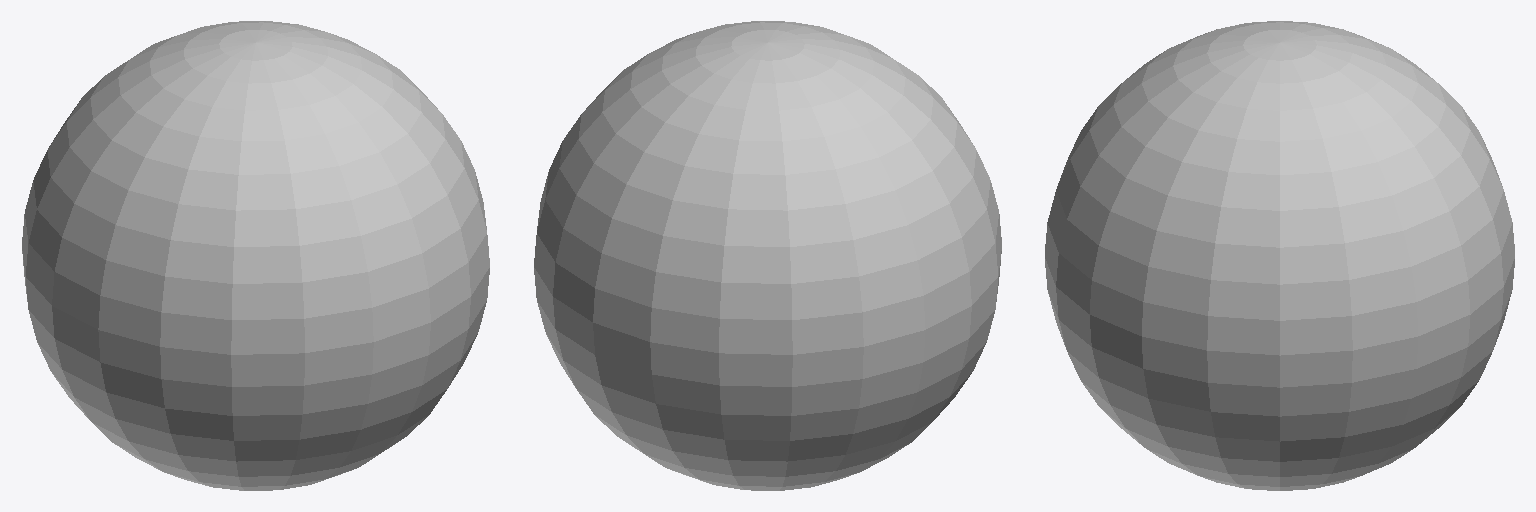
File: small_sphere.obj
The picture shows the model from 3 angles: view 1: azimuth 30°, elevation 25°; view 2: azimuth 150°, elevation 25°; view 3: azimuth 270°, elevation 25°; orthographic projection.
Parts seen in each view (by area): view 1: pSphere1; view 2: pSphere1; view 3: pSphere1.
Part boxes in pixels (x1,y1,x2,y2): pSphere1: (22, 21, 489, 490); pSphere1: (534, 21, 1001, 490); pSphere1: (1045, 21, 1514, 490).
Bounding box in the file's own units: 0.2 × 0.2 × 0.2.